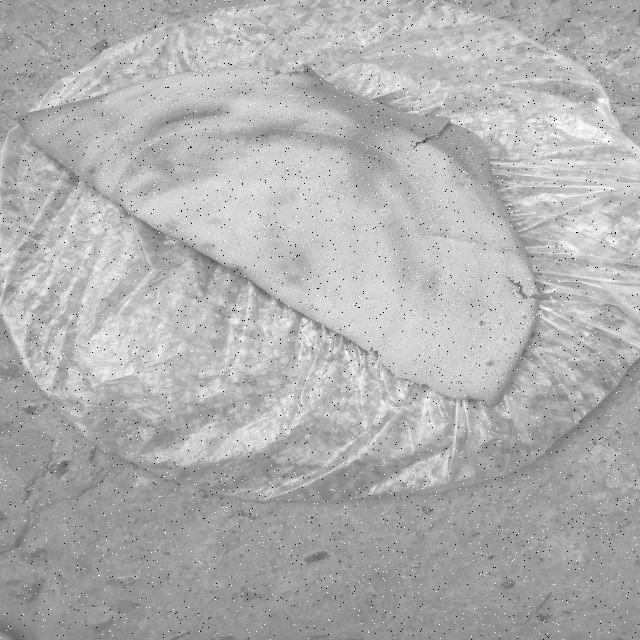injera_mold: (526, 287, 540, 295), (528, 298, 538, 308), (484, 359, 496, 367), (525, 327, 532, 337), (516, 289, 525, 296), (525, 276, 535, 282), (380, 210, 390, 216), (521, 313, 529, 320), (454, 379, 463, 385), (478, 320, 487, 326), (461, 170, 471, 175), (500, 336, 508, 342), (529, 309, 536, 315), (527, 320, 534, 326), (513, 325, 521, 330), (480, 375, 486, 380), (200, 198, 206, 203), (507, 356, 513, 360), (141, 80, 148, 83), (85, 121, 89, 125), (467, 365, 472, 368), (532, 316, 537, 319), (488, 321, 492, 324), (524, 339, 529, 341), (522, 345, 525, 348), (516, 357, 519, 360), (523, 325, 526, 327), (457, 165, 459, 168), (149, 81, 152, 83), (504, 378, 506, 380), (502, 382, 504, 384), (500, 316, 502, 318), (522, 349, 524, 351), (462, 182, 464, 184), (70, 120, 72, 122), (90, 118, 92, 120), (499, 379, 502, 380), (516, 361, 518, 362), (455, 171, 457, 172), (453, 178, 455, 179), (469, 176, 471, 177), (82, 121, 84, 122), (88, 126, 89, 128), (86, 116, 87, 118), (525, 342, 526, 343), (85, 129, 86, 130)
